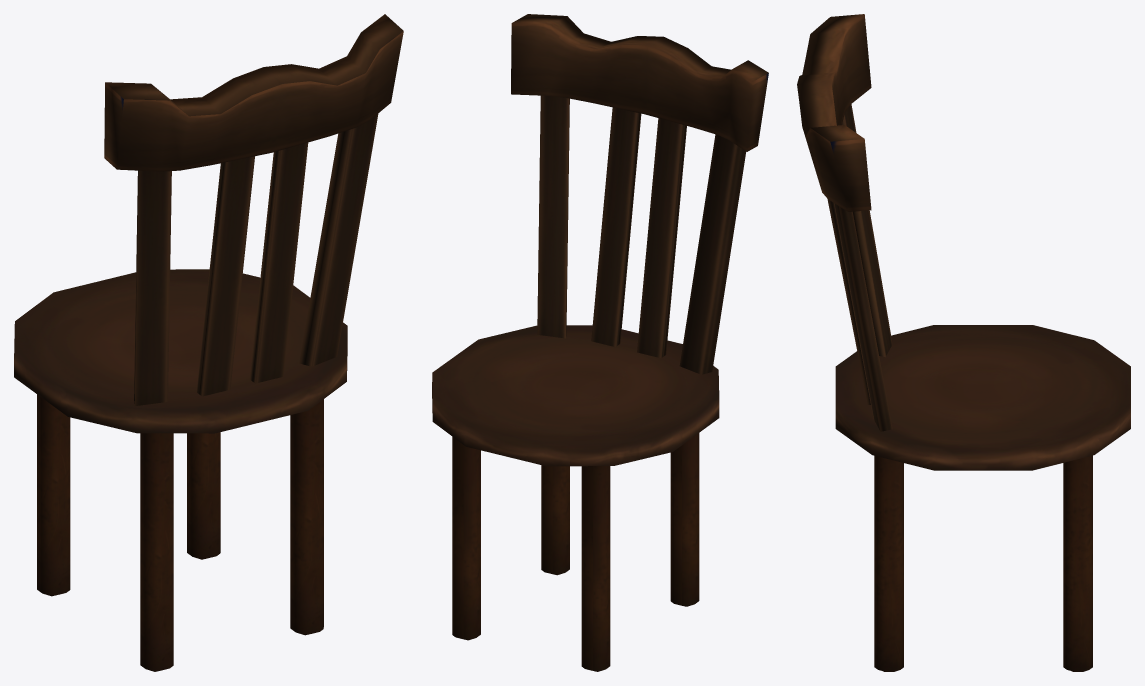
File: Chair_J.fbx
The picture shows the model from 3 angles, left to right: view 1: azimuth 30°, elevation 25°; view 2: azimuth 150°, elevation 25°; view 3: azimuth 270°, elevation 25°; orthographic projection. The views are drawn at different scales.
Parts seen in each view (by area): view 1: Chair_Backing_C, Chair_Base_B, Chair_Legs_B; view 2: Chair_Backing_C, Chair_Base_B, Chair_Legs_B; view 3: Chair_Base_B, Chair_Backing_C, Chair_Legs_B.
Boxes of the visible parts, x1=… form: Chair_Backing_C: x1=104, y1=14, x2=403, y2=405; Chair_Base_B: x1=14, y1=269, x2=347, y2=433; Chair_Legs_B: x1=37, y1=394, x2=323, y2=671; Chair_Backing_C: x1=511, y1=14, x2=768, y2=374; Chair_Base_B: x1=432, y1=325, x2=719, y2=466; Chair_Legs_B: x1=452, y1=433, x2=699, y2=671; Chair_Base_B: x1=835, y1=325, x2=1130, y2=470; Chair_Backing_C: x1=797, y1=14, x2=892, y2=431; Chair_Legs_B: x1=874, y1=455, x2=1092, y2=671.
Size of the model in its own units: 5.67 by 11.82 by 6.39.
